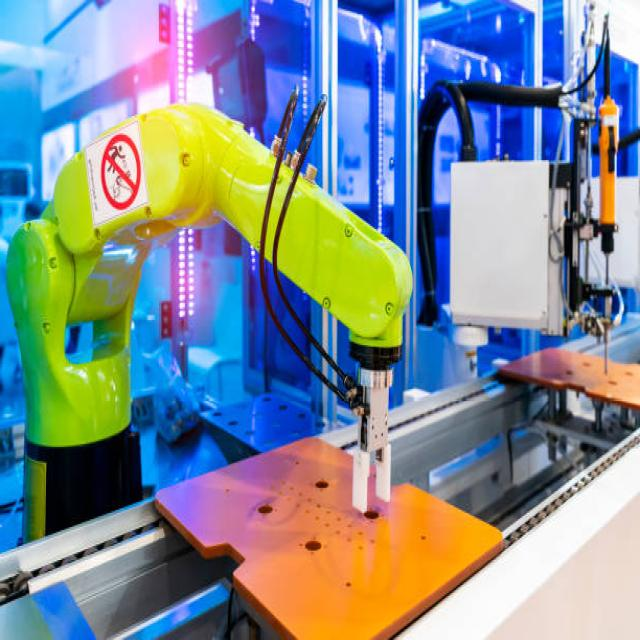Robotic-arm: (15, 91, 415, 558)
